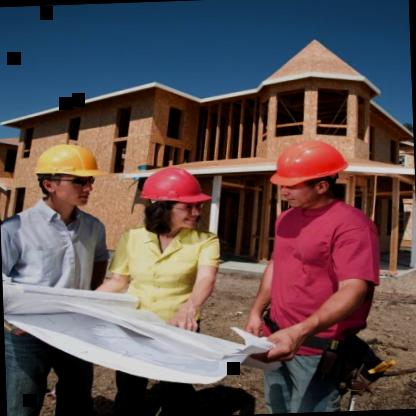helmet: (134, 165, 216, 235), (271, 136, 350, 207), (31, 144, 110, 209)
